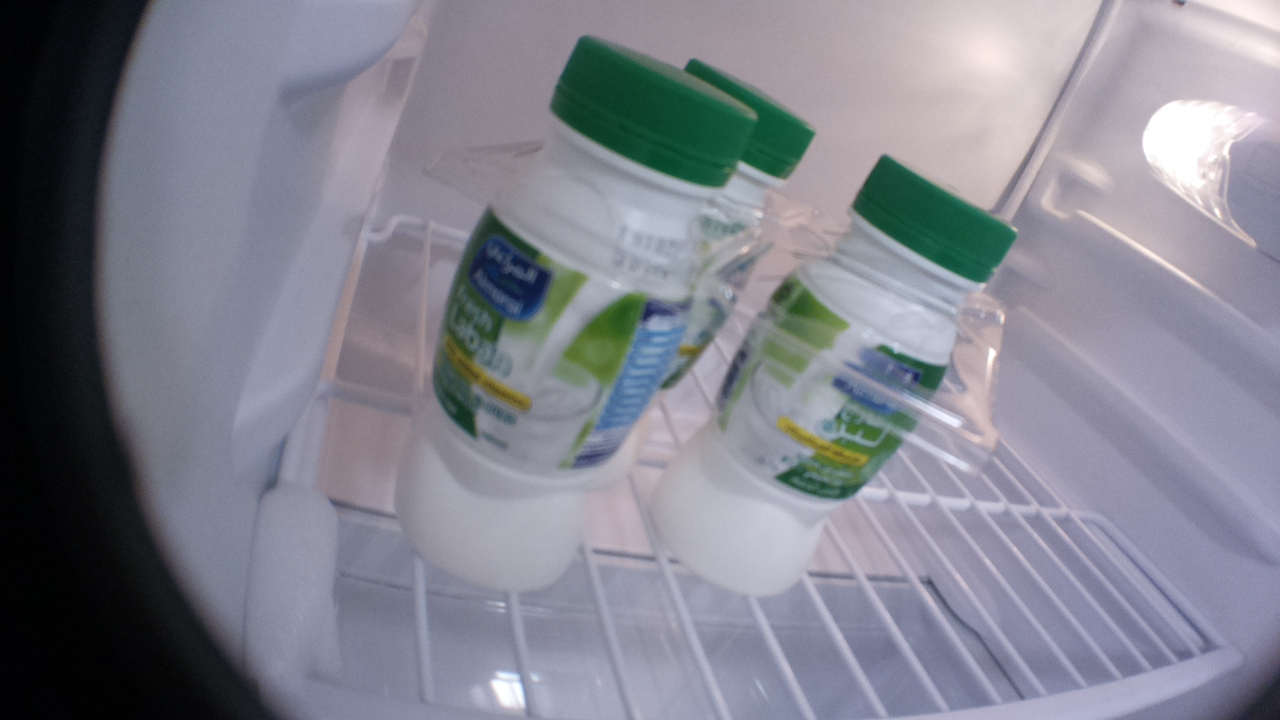laban: (393, 34, 757, 596), (649, 152, 1017, 596), (685, 51, 814, 179)
